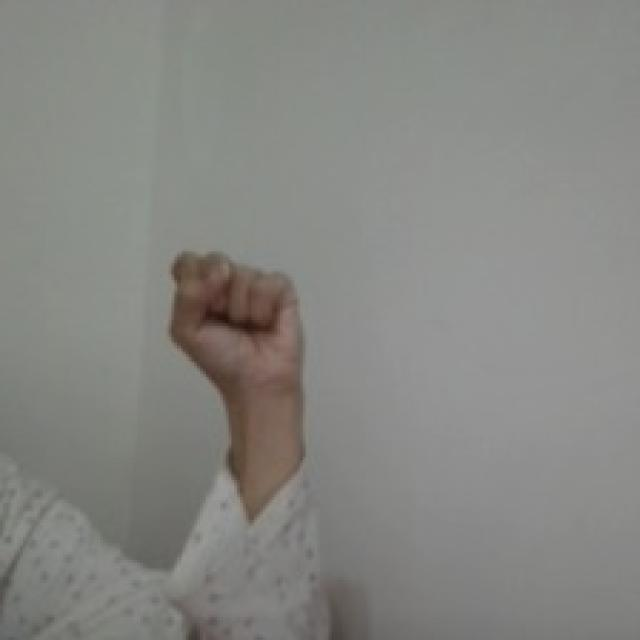yes: (166, 245, 310, 393)
